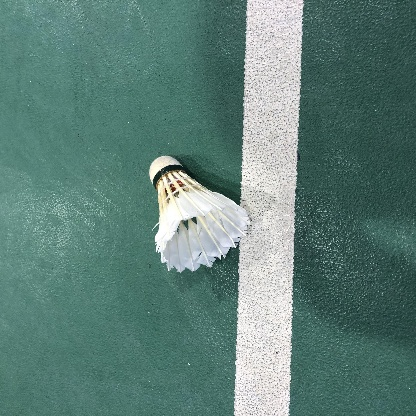ball_single: (149, 156, 250, 273)
